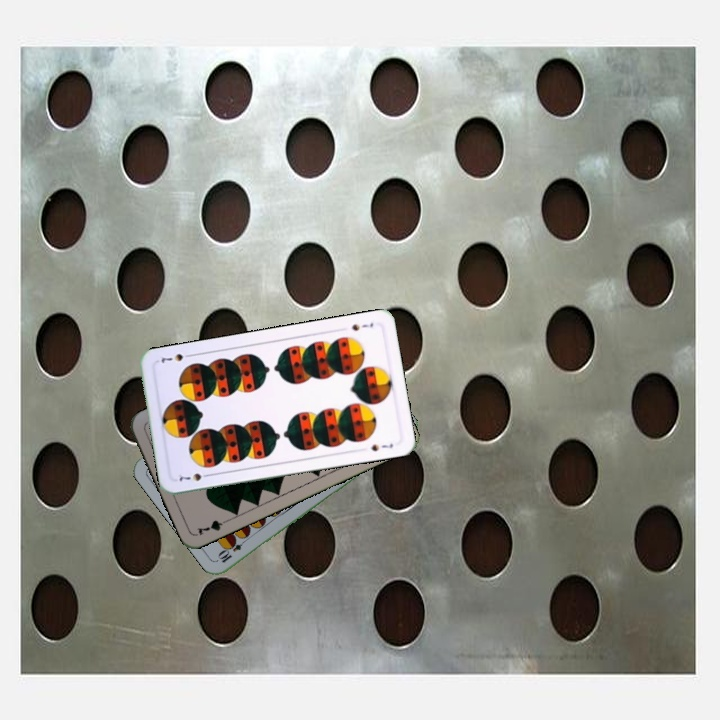E10: (214, 533, 250, 565)
G7: (193, 514, 233, 537)
S7: (175, 469, 214, 484), (348, 318, 376, 333)
